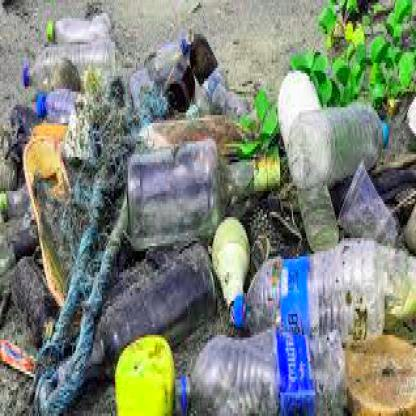Glass: (115, 140, 282, 250)
Plastic: (226, 243, 416, 333), (178, 335, 349, 415), (290, 102, 388, 187), (21, 40, 116, 93), (41, 15, 110, 46)
Trash: (111, 330, 175, 415), (211, 217, 248, 325)
